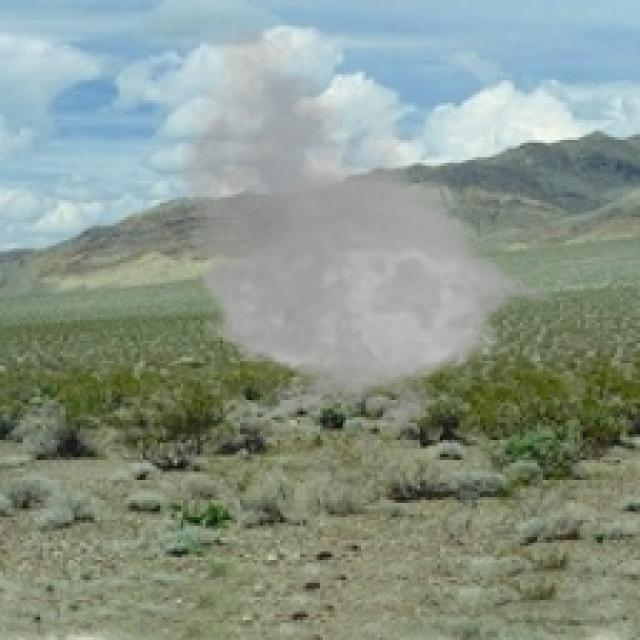smoke: (157, 17, 569, 443)
